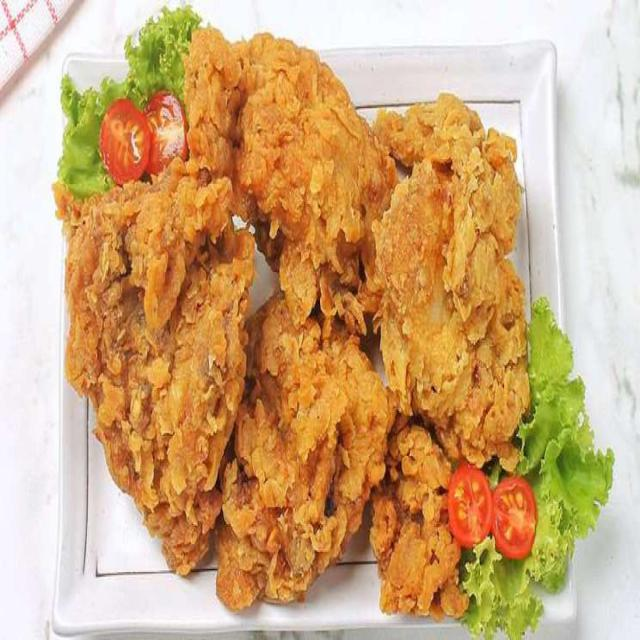Frango: (62, 172, 253, 578), (366, 97, 533, 474), (185, 27, 396, 311), (215, 291, 395, 612)
